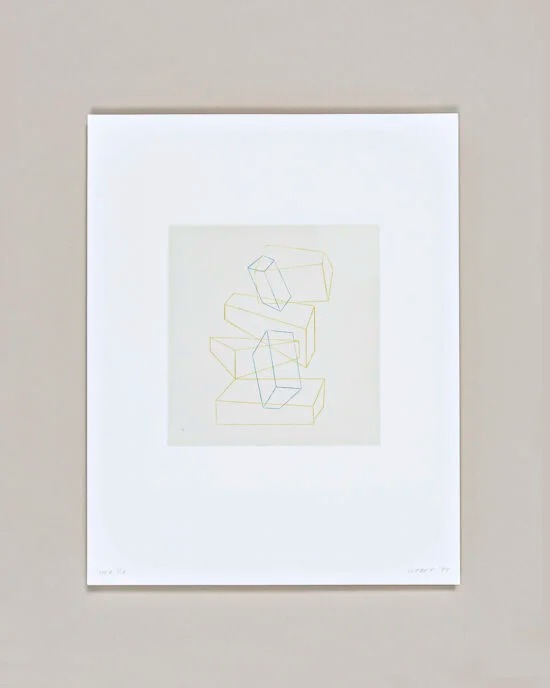painting: (86, 113, 461, 587)
